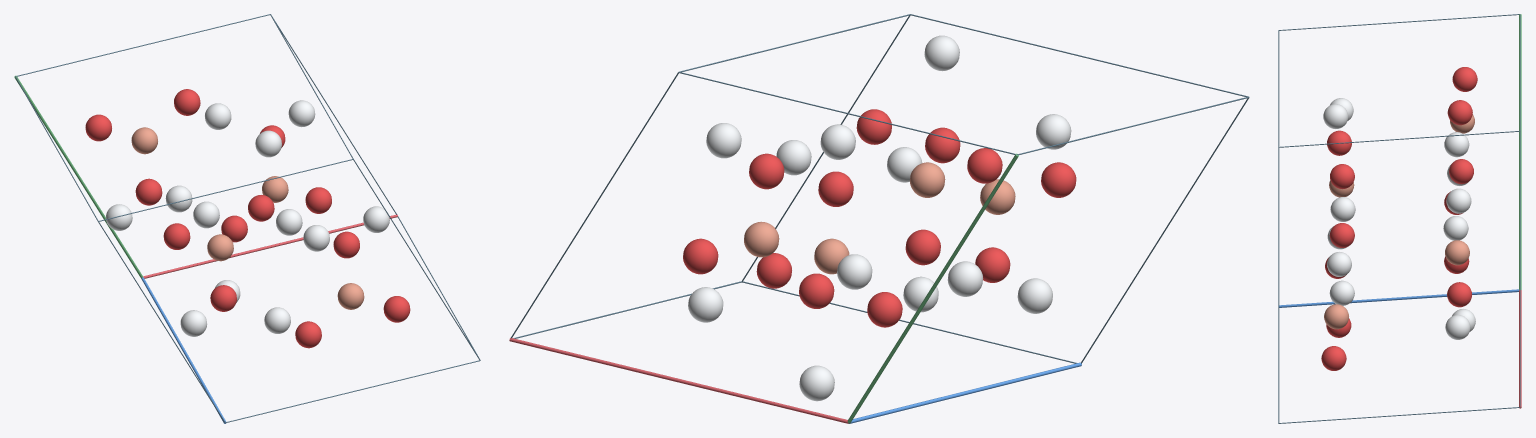
The model's file is chat-sassolite.glb.
3 renders of one model, left to right at view 1: azimuth 30°, elevation 25°; view 2: azimuth 150°, elevation 25°; view 3: azimuth 270°, elevation 25°, orthographic. The views are drawn at different scales.
Visible parts, largest first — view 1: Ô mạng và các trục a, b, c, B2 · B · 1 (×2), O5 · O · 1 (×2), O6 · O · 1 (×2), H1 · H · 1 (×2), O2 · O · 1 (×2), H3 · H · 1 (×2), H4 · H · 1 (×2), H2 · H · 1 (×2), O4 · O · 1 (×2), H5 · H · 1 (×2), O1 · O · 1 (×2) (+3 smaller); view 2: Ô mạng và các trục a, b, c, O5 · O · 1 (×2), O2 · O · 1 (×2), H6 · H · 1 (×2), H3 · H · 1 (×2), O6 · O · 1 (×2), H2 · H · 1 (×2), O4 · O · 1 (×2), O1 · O · 1 (×2), O3 · O · 1 (×2), H5 · H · 1 (×2), H4 · H · 1 (×2) (+3 smaller); view 3: Ô mạng và các trục a, b, c, H1 · H · 1 (×2), O6 · O · 1 (×2), H4 · H · 1 (×2), O2 · O · 1 (×2), O4 · O · 1 (×2), H3 · H · 1, B1 · B · 1, B2 · B · 1, H2 · H · 1, H6 · H · 1, O1 · O · 1 (+3 smaller).
Boxes of the visible parts, left/top/right/bottom form: Ô mạng và các trục a, b, c: left=14, top=14, right=480, bottom=423; B2 · B · 1 (×2): left=131, top=127, right=364, bottom=309; O5 · O · 1 (×2): left=135, top=178, right=359, bottom=258; O6 · O · 1 (×2): left=85, top=114, right=410, bottom=322; H1 · H · 1 (×2): left=193, top=201, right=302, bottom=235; O2 · O · 1 (×2): left=163, top=187, right=331, bottom=249; H3 · H · 1 (×2): left=180, top=100, right=315, bottom=336; H4 · H · 1 (×2): left=205, top=103, right=290, bottom=333; H2 · H · 1 (×2): left=165, top=185, right=329, bottom=251; O4 · O · 1 (×2): left=174, top=89, right=321, bottom=348; H5 · H · 1 (×2): left=106, top=204, right=389, bottom=232; O1 · O · 1 (×2): left=221, top=195, right=274, bottom=242; Ô mạng và các trục a, b, c: left=509, top=14, right=1249, bottom=423; O5 · O · 1 (×2): left=818, top=171, right=940, bottom=265; O2 · O · 1 (×2): left=683, top=162, right=1076, bottom=274; H6 · H · 1 (×2): left=799, top=35, right=959, bottom=401; H3 · H · 1 (×2): left=706, top=123, right=1052, bottom=313; O6 · O · 1 (×2): left=756, top=148, right=1002, bottom=288; H2 · H · 1 (×2): left=688, top=114, right=1071, bottom=322; O4 · O · 1 (×2): left=856, top=109, right=902, bottom=327; O1 · O · 1 (×2): left=799, top=127, right=960, bottom=308; O3 · O · 1 (×2): left=749, top=153, right=1010, bottom=282; H5 · H · 1 (×2): left=776, top=140, right=983, bottom=296; H4 · H · 1 (×2): left=820, top=124, right=938, bottom=312; Ô mạng và các trục a, b, c: left=1278, top=14, right=1521, bottom=423; H1 · H · 1 (×2): left=1330, top=197, right=1468, bottom=240; O6 · O · 1 (×2): left=1321, top=67, right=1477, bottom=370; H4 · H · 1 (×2): left=1329, top=132, right=1469, bottom=305; O2 · O · 1 (×2): left=1327, top=130, right=1472, bottom=307; O4 · O · 1 (×2): left=1326, top=100, right=1472, bottom=337; H3 · H · 1: left=1446, top=188, right=1471, bottom=213; B1 · B · 1: left=1445, top=240, right=1469, bottom=265; B2 · B · 1: left=1324, top=304, right=1348, bottom=329; H2 · H · 1: left=1445, top=315, right=1470, bottom=339; H6 · H · 1: left=1323, top=104, right=1348, bottom=128; O1 · O · 1: left=1330, top=164, right=1354, bottom=189.
Size of the model in its own units: 11.79 by 7.2 by 6.18.
